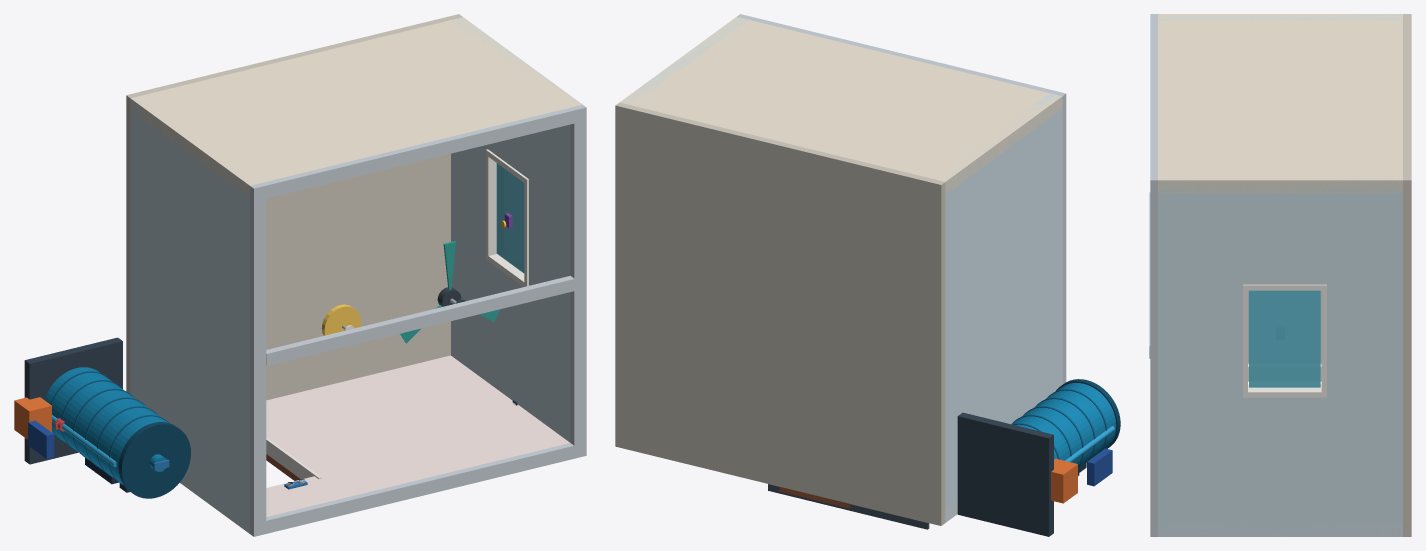
Rendered from MotionReady_FullAssembly.obj.
The picture shows the model from 3 angles, left to right: view 1: azimuth 30°, elevation 25°; view 2: azimuth 150°, elevation 25°; view 3: azimuth 270°, elevation 25°; orthographic projection. The views are drawn at different scales.
Parts seen in each view (by area): view 1: Back_wall, Left_side_wall, Floor_slab, Front_wall_right, Right_wall_front_of_window, Tank_Cylindrical_Body, Top_frame_back, Top_frame_front, Top_frame_left, Top_frame_right, Ceiling_support_beam, Right_wall_back_of_window (+11 smaller); view 2: Floor_slab, Back_wall, Left_side_wall, Tank_Base_Platform, Tank_Cylindrical_Body, Top_frame_back, Top_frame_left, Right_wall_back_of_window, Tank_Pump_Housing, Sliding_Track_Bottom, Tank_Controller_Box; view 3: Back_wall, Right_wall_front_of_window, Right_wall_back_of_window, Right_wall_above_window, Right_wall_below_window, Window_glass, Floor_slab, Top_frame_right, Top_frame_back, Left_side_wall, Front_wall_right, Window_jamb_front (+4 smaller).
Boxes of the visible parts, box(x1,y1,x2,y2) form: Back_wall: box(130, 17, 582, 198); Left_side_wall: box(130, 98, 250, 533); Floor_slab: box(126, 14, 462, 400); Front_wall_right: box(266, 355, 569, 497); Right_wall_front_of_window: box(451, 229, 570, 442); Tank_Cylindrical_Body: box(45, 367, 168, 484); Top_frame_back: box(250, 104, 586, 201); Top_frame_front: box(250, 443, 586, 536); Top_frame_left: box(250, 199, 266, 523); Top_frame_right: box(570, 120, 586, 445); Ceiling_support_beam: box(266, 275, 574, 365); Right_wall_back_of_window: box(452, 17, 581, 211); Floor_slab: box(615, 102, 945, 525); Back_wall: box(620, 17, 1062, 194); Left_side_wall: box(940, 93, 1062, 522); Tank_Base_Platform: box(957, 412, 1053, 536); Tank_Cylindrical_Body: box(1011, 382, 1116, 468); Top_frame_back: box(737, 14, 1066, 108); Top_frame_left: box(1062, 106, 1066, 384); Right_wall_back_of_window: box(620, 17, 747, 104); Tank_Pump_Housing: box(1051, 458, 1077, 503); Sliding_Track_Bottom: box(768, 484, 929, 529); Tank_Controller_Box: box(1087, 448, 1112, 486); Back_wall: box(1158, 14, 1402, 193); Right_wall_front_of_window: box(1158, 394, 1402, 536); Right_wall_back_of_window: box(1158, 175, 1402, 287); Right_wall_above_window: box(1158, 287, 1242, 394); Right_wall_below_window: box(1327, 287, 1402, 394); Window_glass: box(1249, 290, 1320, 387); Floor_slab: box(1403, 14, 1411, 536); Top_frame_right: box(1150, 193, 1157, 523); Top_frame_back: box(1150, 14, 1157, 193); Left_side_wall: box(1158, 14, 1402, 363); Front_wall_right: box(1158, 523, 1402, 536); Window_jamb_front: box(1248, 384, 1321, 397).
Size of the model in its own units: 6237 by 4705 by 3000.
